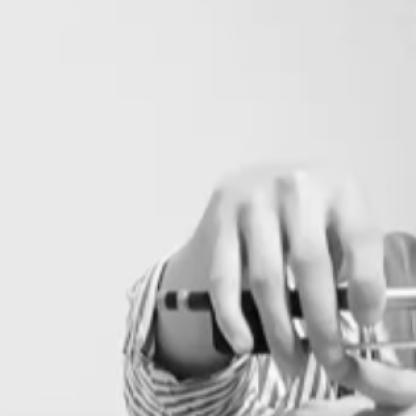good: (198, 169, 392, 382)
